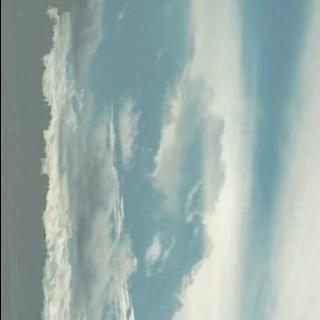Stratus: (66, 0, 320, 320)
